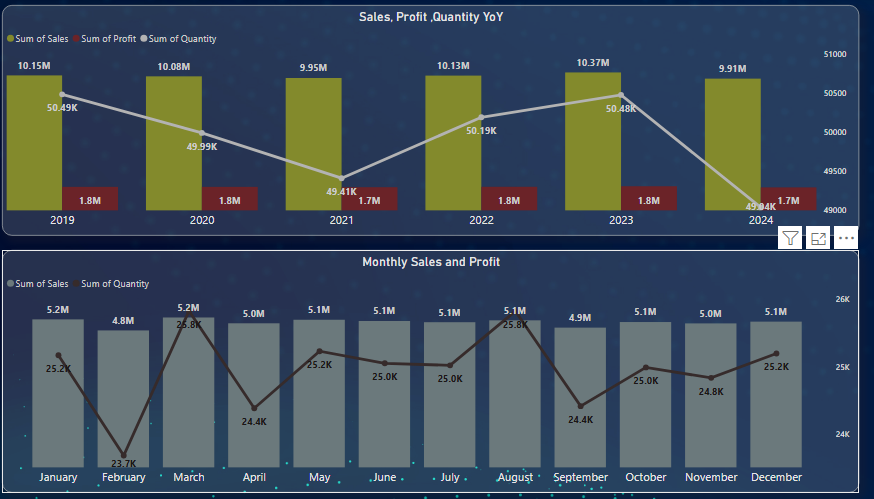

What the dashboard file says about the page in this screenshot:
{"tool":"powerbi","page":{"name":"Page 2","canvas":[1280,720],"ordinal":1},"visuals":[{"type":"lineClusteredColumnComboChart","title":"Sales, Profit ,Quantity  YoY","fields":{"Category":["Sales.OrderDate.Variation.Date Hierarchy.Year"],"Y":["Sum(Sales.Sales)","Sum(Sales.Profit)"],"Y2":["Sum(Sales.Quantity)"]},"box":[26.9,12.8,1214.6,327.4],"z":0},{"type":"lineStackedColumnComboChart","title":"Monthly Sales and Profit","fields":{"Category":["Order_Date.mon_name"],"Y":["Sum(Sales.Sales)"],"Y2":["Sum(Sales.Quantity)"]},"box":[26.9,360,1214.6,344.4],"z":1000}]}

Visuals, with their boxes in screenshot pixels (x1, y1, x2, y2), scaled from the page's 1280x720 canvas onto the 874x499 screenshot:
"Sales, Profit ,Quantity  YoY" lineClusteredColumnComboChart: locate(18, 9, 848, 236)
"Monthly Sales and Profit" lineStackedColumnComboChart: locate(18, 250, 848, 488)
